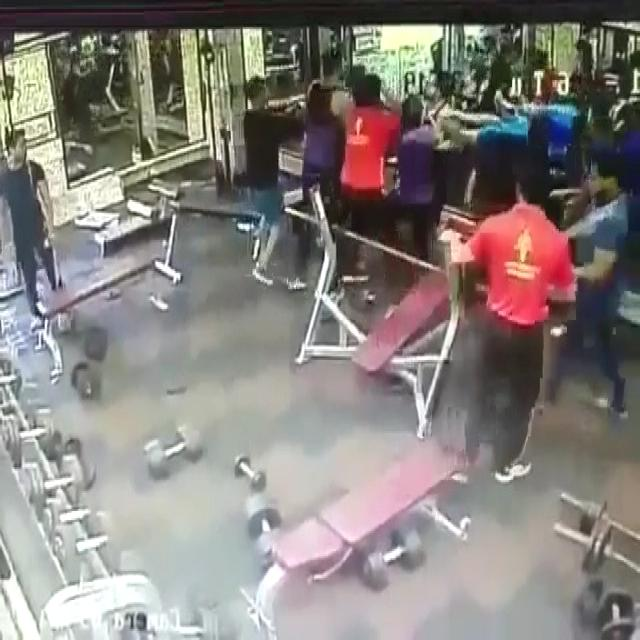fight: (460, 142, 631, 490)
